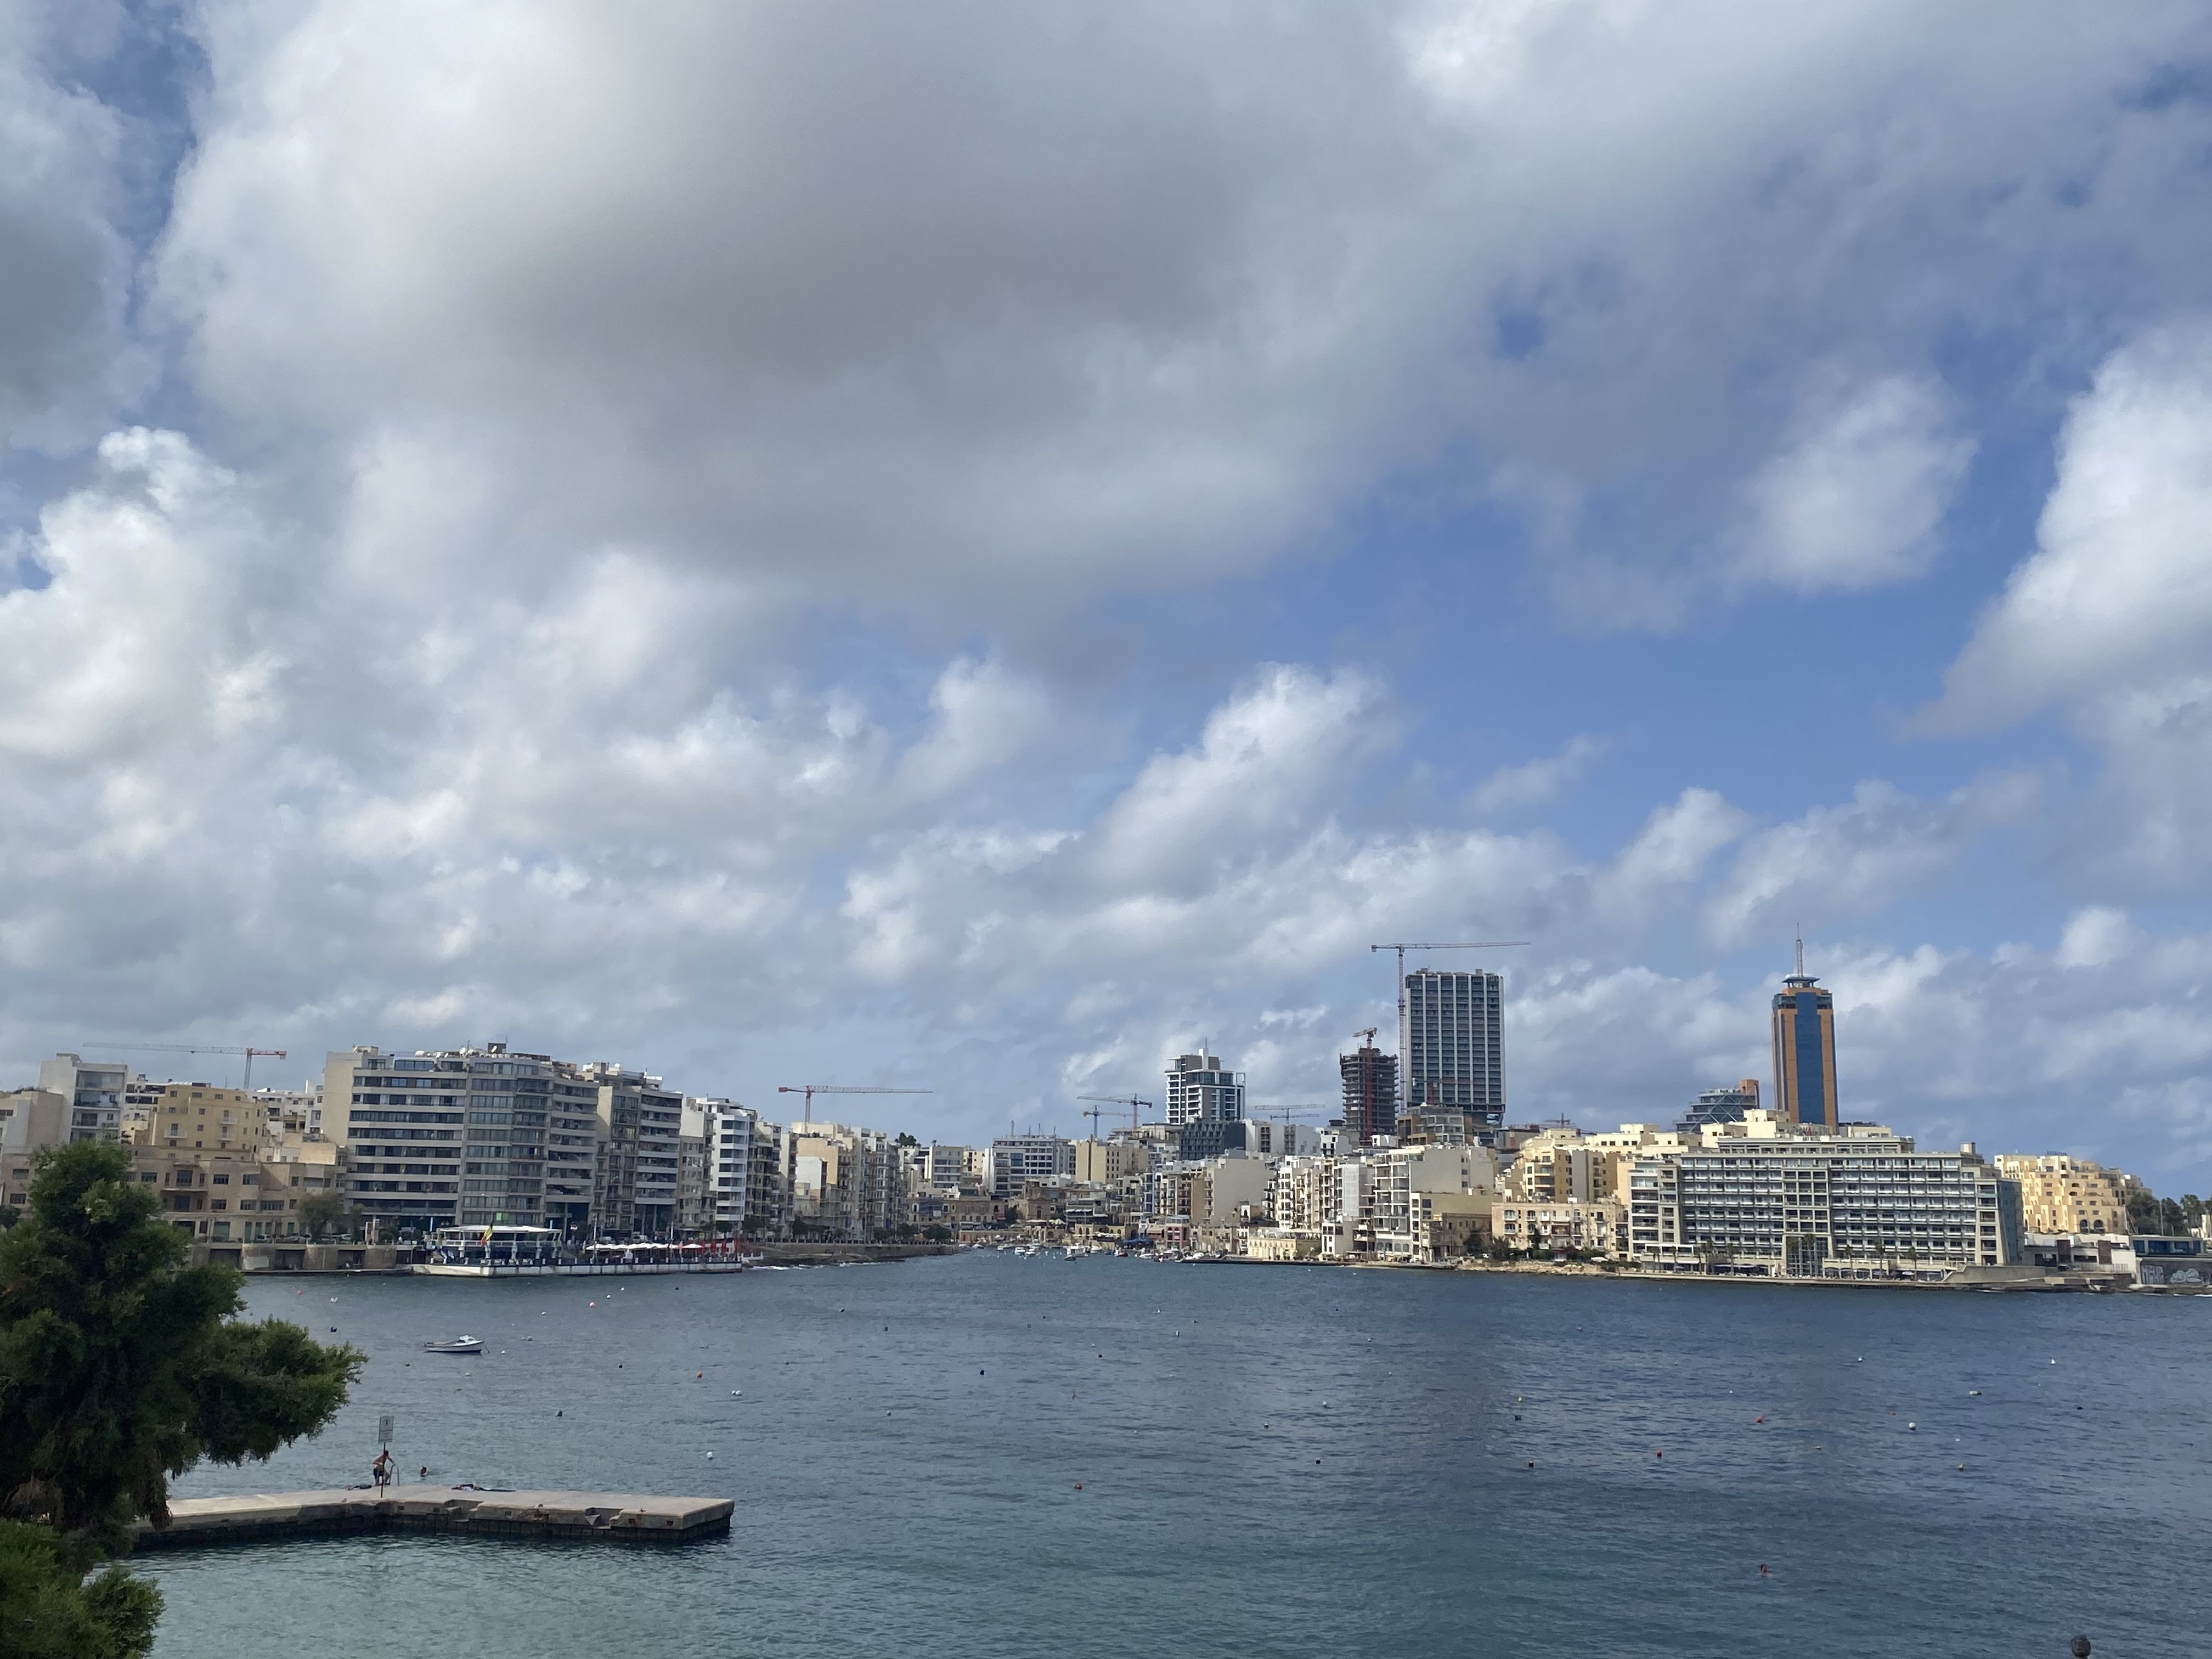crane: (1355, 924, 1562, 971), (768, 1070, 981, 1110)
